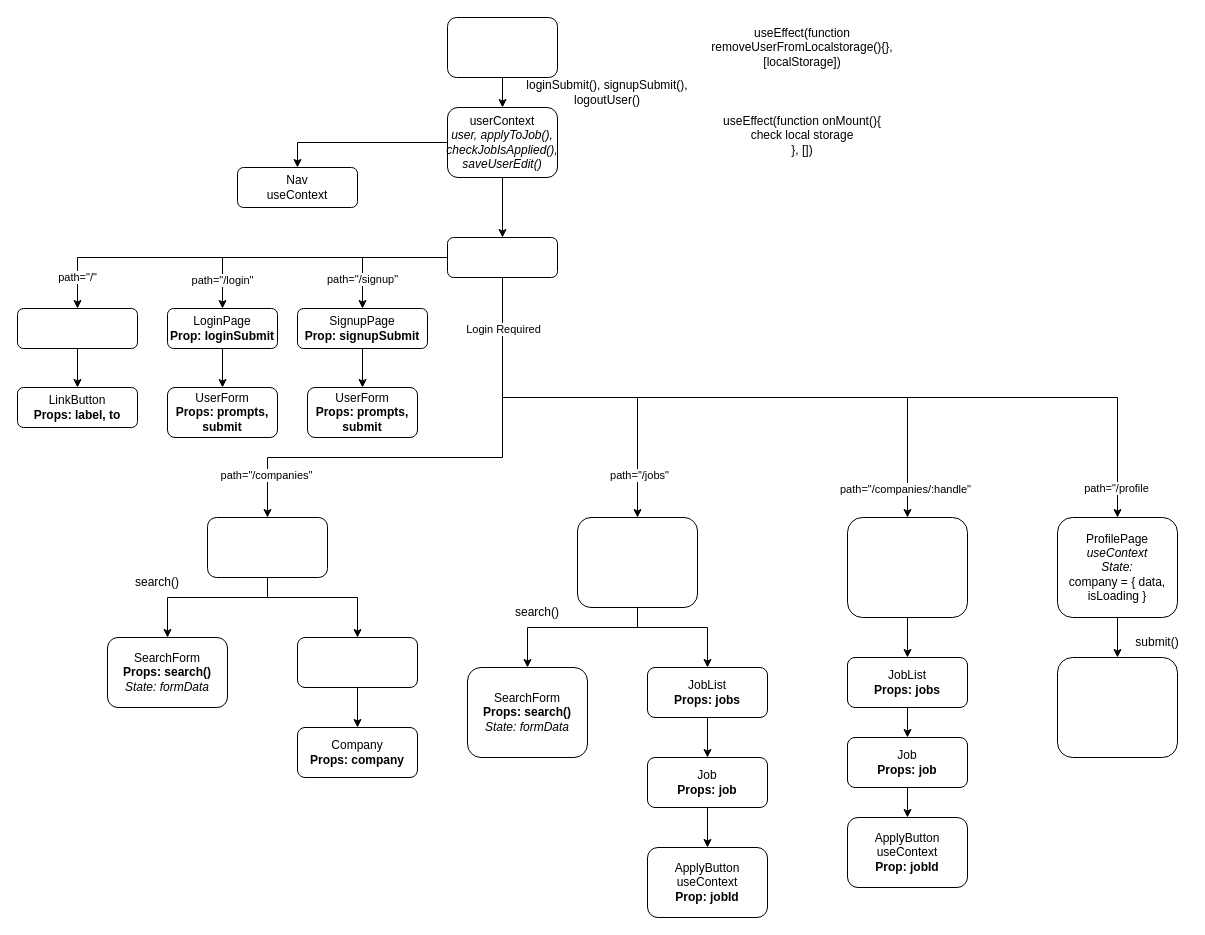
Image size: 1205x935. Some labels were removed from this diagram. Here are the shapes that lost their labels. From the top down, the centre of each, then its label:
At (x=502, y=47): "App State: user = {jobs: new Set()}, localStorage".
At (x=502, y=257): "RoutesList useContext".
At (x=77, y=328): "HomePage useContext".
At (x=267, y=547): "CompaniesPage State: companies = { data, isLoading }".
At (x=637, y=562): "JobsPage useContext State: jobs = { data, isLoading }".
At (x=907, y=567): "CompanyDetailPage useContext State: company = { data, isLoading }".
At (x=357, y=662): "CompanyList Props: companies".
At (x=1117, y=707): "UserEditForm Props: initialFormData, editablePrompts, nonEditablePrompts, submit".
